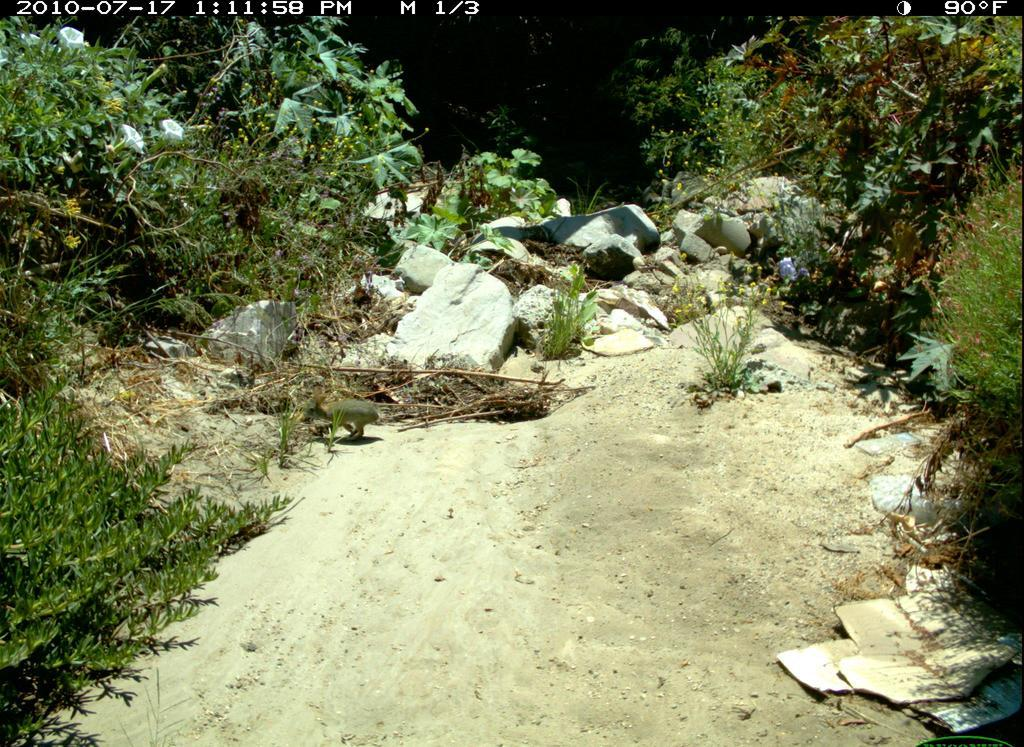rabbit: (293, 380, 389, 456)
